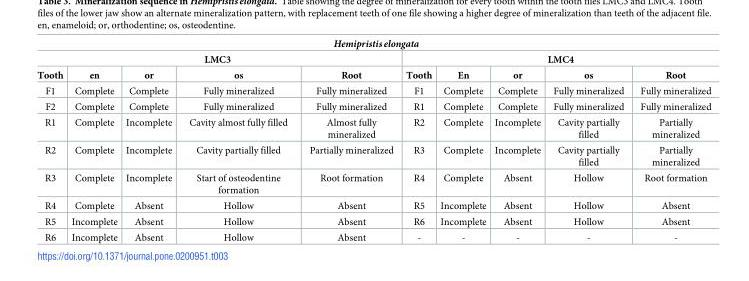table: (36, 36, 710, 242)
table column: (179, 36, 297, 242), (297, 36, 399, 242), (546, 36, 631, 242), (631, 36, 710, 242), (120, 36, 179, 242), (489, 36, 546, 242), (66, 36, 120, 242), (435, 36, 489, 242), (399, 36, 435, 242), (36, 36, 66, 242)
table column header: (36, 36, 710, 82)
table row: (36, 114, 710, 142), (36, 169, 710, 197), (36, 142, 710, 169), (36, 66, 710, 82), (36, 82, 710, 98), (36, 98, 710, 114), (36, 197, 710, 213), (36, 213, 710, 229), (36, 36, 710, 51), (36, 51, 710, 66), (36, 229, 710, 242)
table spanning cell: (36, 36, 710, 51), (36, 51, 399, 66), (399, 51, 710, 66)
